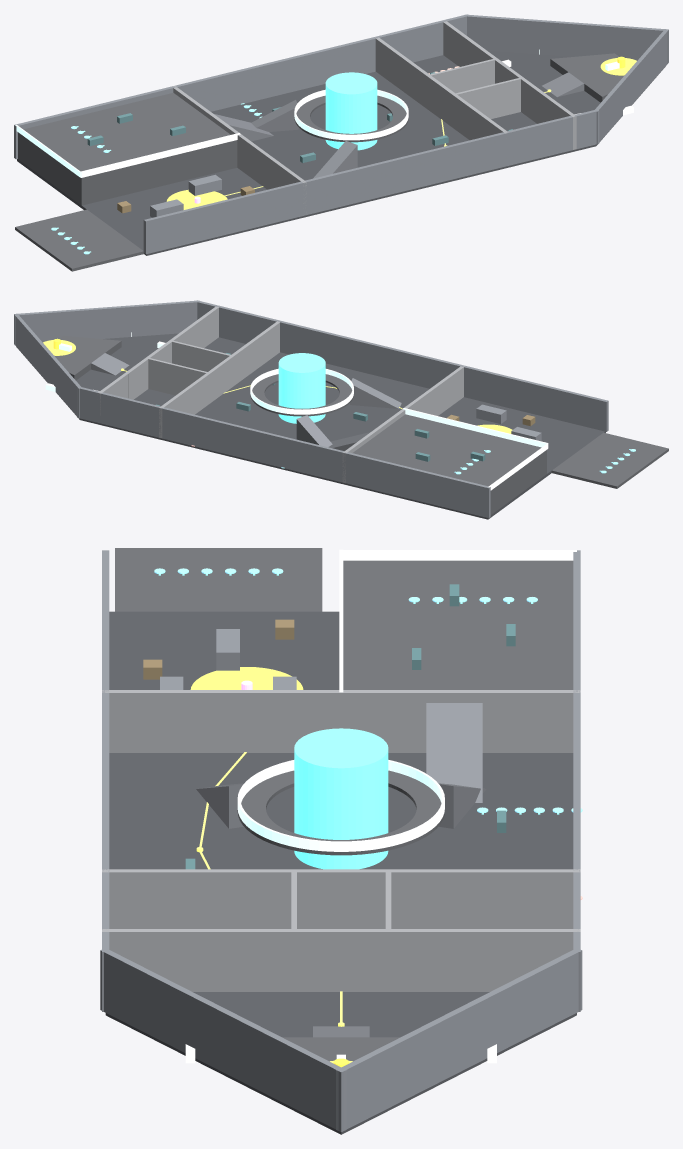
Rendered from carrier_boarding.glb.
3 views of the same model, one above another, from view 1: azimuth 30°, elevation 25°; view 2: azimuth 150°, elevation 25°; view 3: azimuth 270°, elevation 25° (orthographic). The views are drawn at different scales.
Visible parts, largest first — view 1: hull_0, deck_floor, flight_deck, hull_3, hull_2, boarding_pad, reactor, hull_1, s1_wall.E0, command_platform, corridor_s, corridor_n (+19 smaller); view 2: deck_floor, hull_3, hull_0, flight_deck, hull_1, boarding_pad, reactor, hull_2, s1_wall.E0, command_platform, corridor_n, catwalk (+16 smaller); view 3: deck_floor, flight_deck, s2_wall.E0, s3_wall.E0, hull_2, hull_1, boarding_pad, reactor, s1_wall.W1, s1_wall.W0, s1_wall.W2, s1_wall.E0 (+11 smaller).
Boxes of the visible parts, <box> form: hull_0: <box>143,110,599,254</box>; deck_floor: <box>17,51,664,255</box>; flight_deck: <box>18,92,237,205</box>; hull_3: <box>14,14,468,159</box>; hull_2: <box>464,14,668,63</box>; boarding_pad: <box>15,209,143,271</box>; reactor: <box>325,72,377,150</box>; hull_1: <box>594,29,668,144</box>; s1_wall.E0: <box>173,88,306,189</box>; command_platform: <box>550,53,624,102</box>; corridor_s: <box>452,77,522,118</box>; corridor_n: <box>427,58,497,93</box>; deck_floor: <box>16,333,605,519</box>; hull_3: <box>77,387,490,517</box>; hull_0: <box>195,300,608,431</box>; flight_deck: <box>352,414,546,514</box>; hull_1: <box>14,300,199,344</box>; boarding_pad: <box>551,432,668,488</box>; reactor: <box>278,353,325,423</box>; hull_2: <box>14,314,81,418</box>; s1_wall.E0: <box>342,365,464,482</box>; command_platform: <box>54,335,121,380</box>; corridor_n: <box>147,358,210,395</box>; catwalk: <box>250,374,353,416</box>; deck_floor: <box>105,611,576,1134</box>; flight_deck: <box>343,560,573,689</box>; s2_wall.E0: <box>109,869,580,928</box>; s3_wall.E0: <box>109,929,573,991</box>; hull_2: <box>336,948,582,1131</box>; hull_1: <box>100,948,346,1131</box>; boarding_pad: <box>115,548,322,611</box>; reactor: <box>294,728,388,869</box>; s1_wall.W1: <box>271,690,425,752</box>; s1_wall.W0: <box>102,690,222,752</box>; s1_wall.W2: <box>483,690,580,752</box>; s1_wall.E0: <box>102,690,580,752</box>.
Bounding box in the file's own units: 147 × 12.6 × 51.16.
